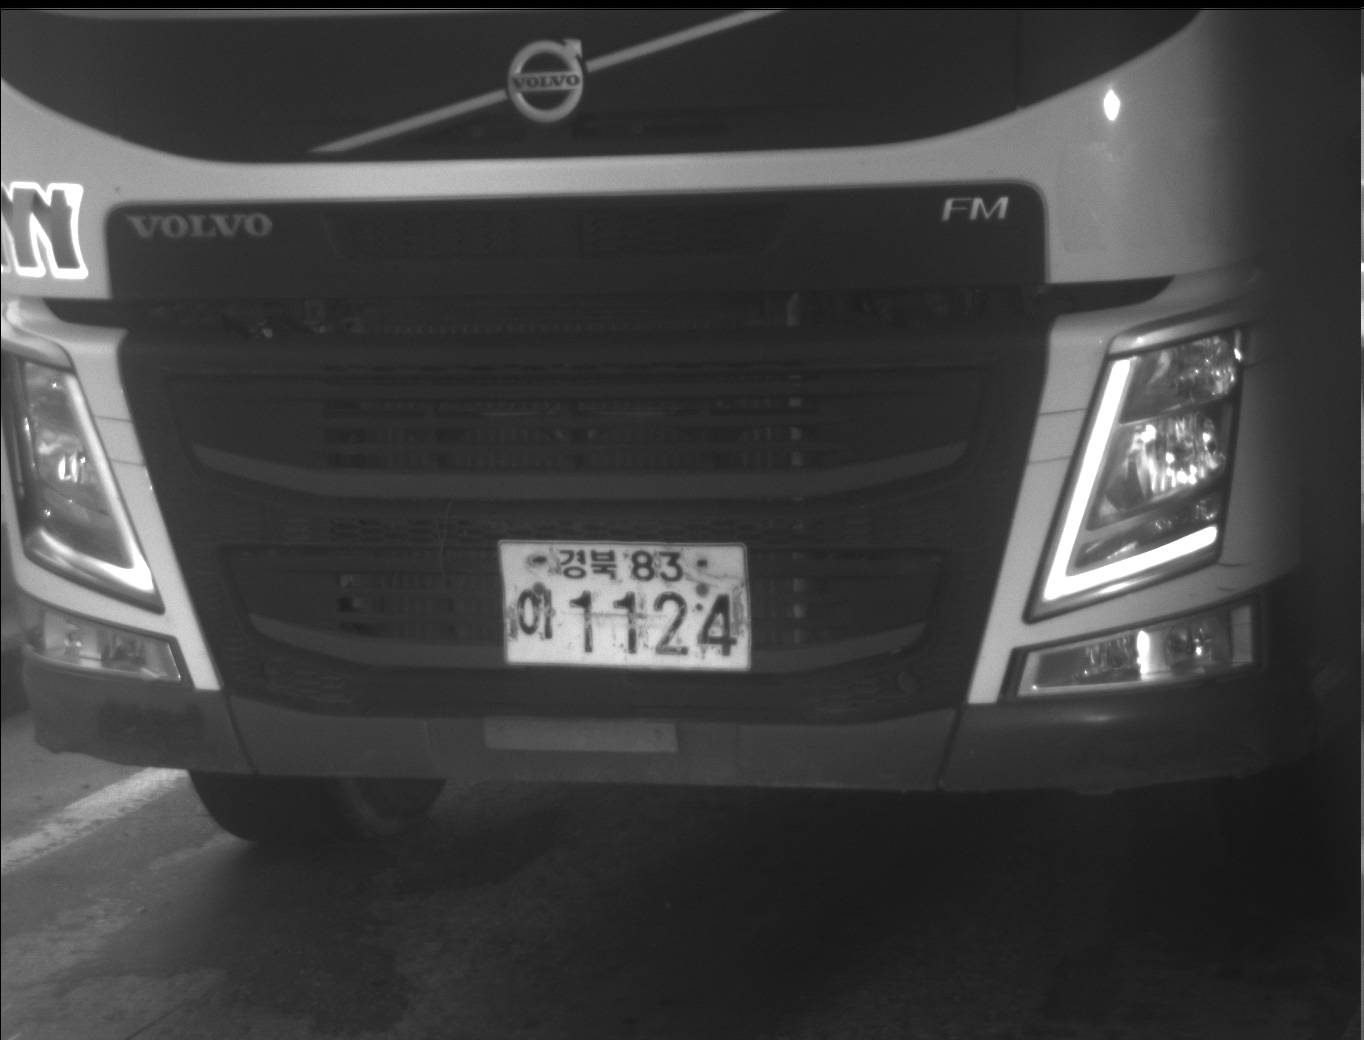car: (1, 1, 1360, 860)
plate: (495, 537, 752, 673)
